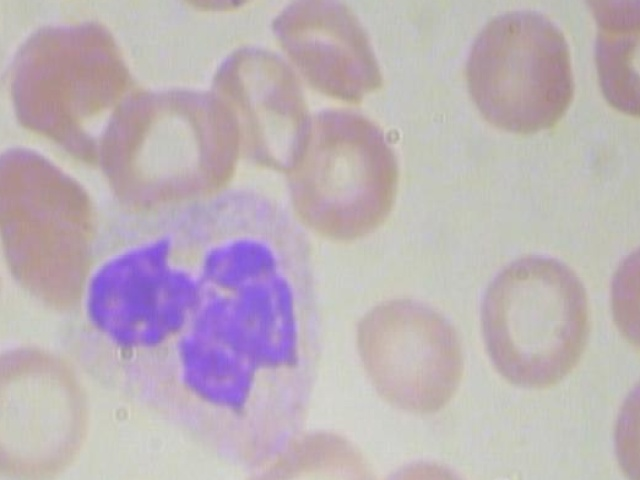RBC: (88, 79, 246, 212), (475, 234, 598, 400), (348, 266, 470, 431), (274, 97, 404, 251), (461, 0, 583, 145), (0, 329, 99, 480), (263, 0, 398, 106), (238, 420, 379, 480), (363, 443, 486, 480), (157, 0, 292, 20), (0, 229, 1, 358)
WBC: (62, 192, 347, 474)
